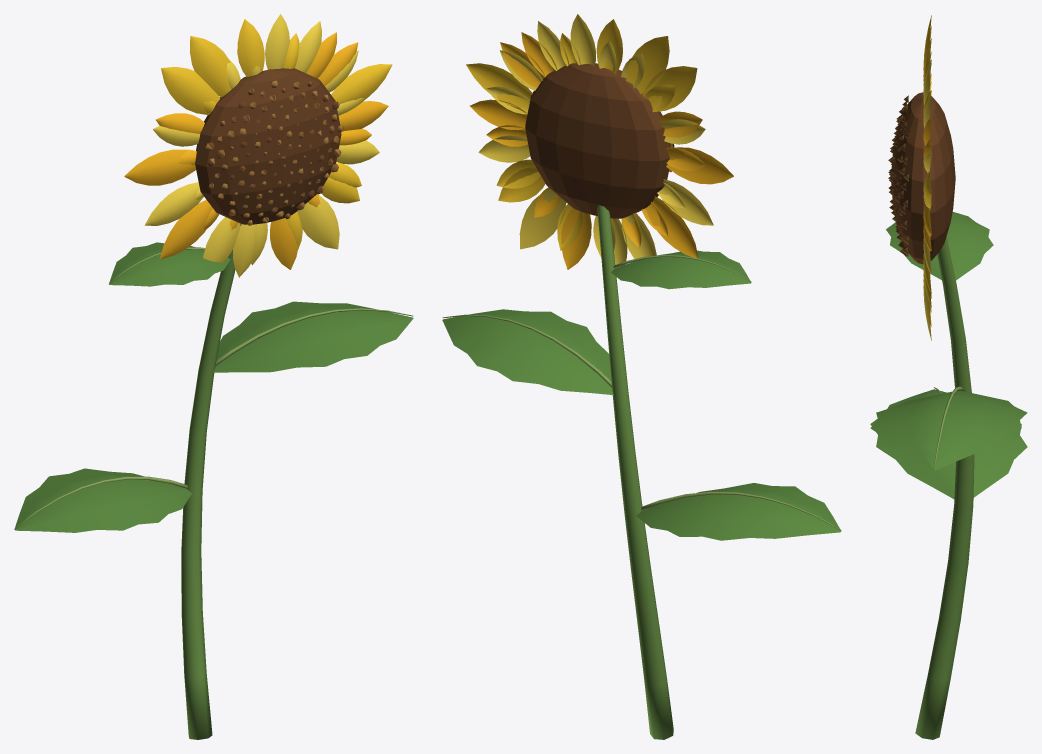
File: sunflower-test-bloom-0-0.glb
The picture shows the model from 3 angles, left to right: view 1: azimuth 30°, elevation 25°; view 2: azimuth 150°, elevation 25°; view 3: azimuth 270°, elevation 25°; orthographic projection. The views are drawn at different scales.
Visible parts, largest first — view 1: Curved tapered stem; view 2: Curved tapered stem; view 3: Curved tapered stem.
Boxes of the visible parts, left/top/right/bottom form: Curved tapered stem: left=14, top=14, right=413, bottom=739; Curved tapered stem: left=442, top=14, right=841, bottom=739; Curved tapered stem: left=870, top=15, right=1027, bottom=739.
Size of the model in its own units: 0.3333 by 0.5644 by 0.1116.
